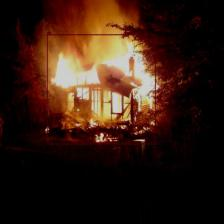fire: (47, 34, 156, 144)
